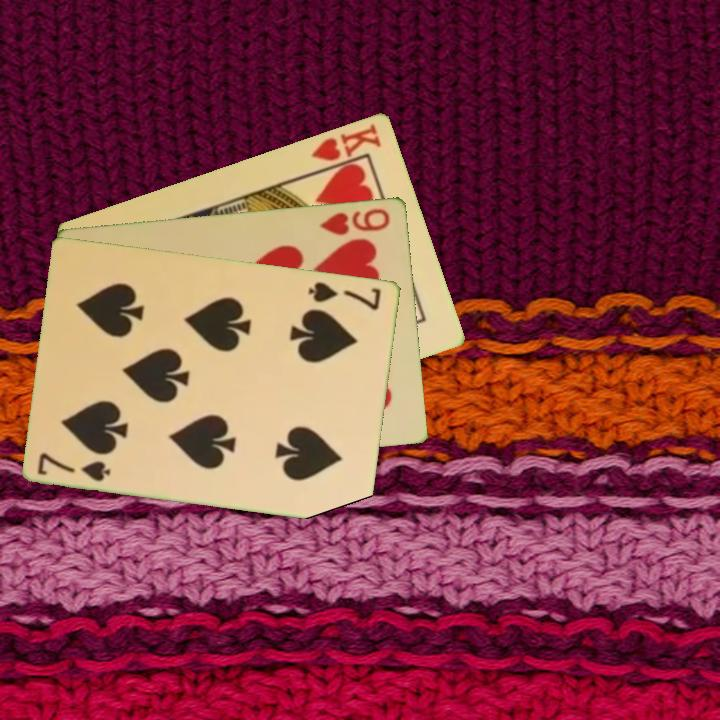7s: (305, 277, 385, 313), (34, 448, 114, 484)
9h: (317, 204, 393, 238)
Kh: (308, 120, 385, 175)
